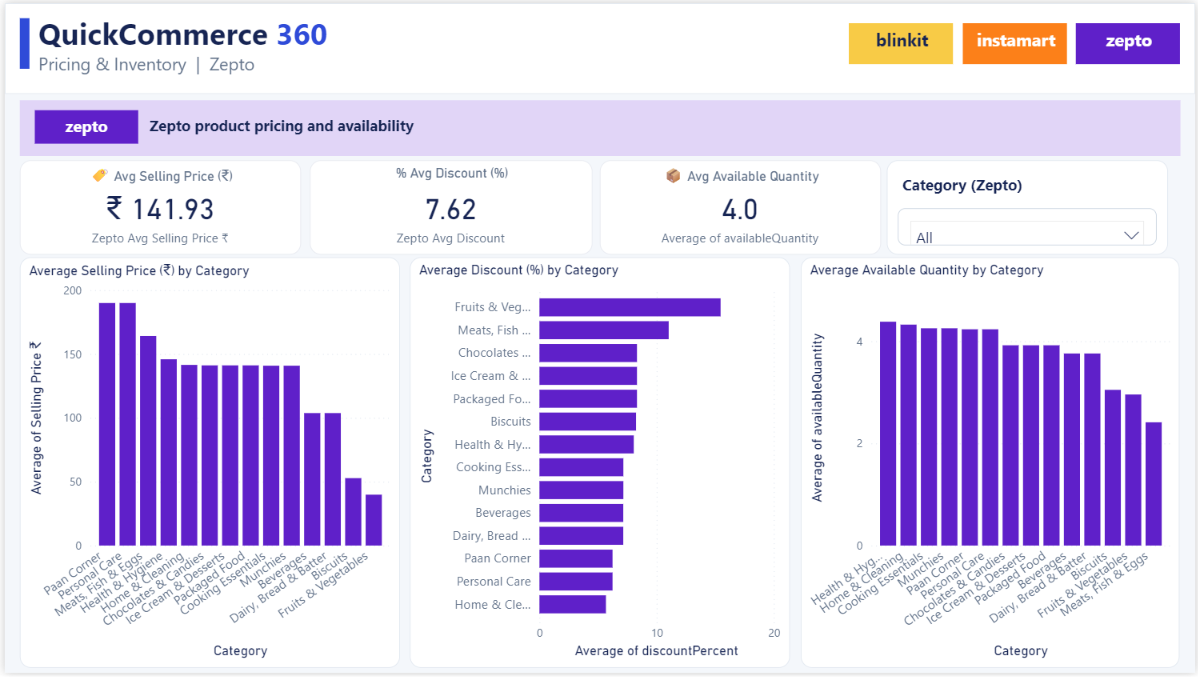

The page's visual inventory and layout, read from the dashboard file:
{"tool":"powerbi","page":{"name":"Pricing & Inventory","canvas":[1280,720],"ordinal":1},"visuals":[{"type":"textbox","box":[0,0,1280,97.5],"z":1000},{"type":"textbox","box":[16,16,6,54],"z":2000},{"type":"textbox","box":[31.4,5.7,640,91.4],"z":3000},{"type":"textbox","box":[908,21,112,44],"z":4000},{"type":"textbox","box":[1030,21,112,44],"z":5000},{"type":"textbox","box":[1152,21,112,44],"z":6000},{"type":"textbox","box":[16.2,103.8,1247.7,60],"z":7000},{"type":"textbox","box":[32.3,114.6,111.5,36.2],"z":8000},{"type":"textbox","box":[150,114.6,700,39.2],"z":9000},{"type":"card","title":"🏷️  Avg Selling Price (₹)","fields":{"Values":["zepto.Zepto Avg Selling Price ₹"]},"box":[16.2,168.8,302.5,101.2],"z":10000},{"type":"card","title":"%  Avg Discount (%)","fields":{"Values":["zepto.Zepto Avg Discount"]},"box":[327.5,168.8,303.8,101.2],"z":11000},{"type":"card","title":"📦  Avg Available Quantity","fields":{"Values":["Avg(zepto.availableQuantity)"]},"box":[640,168.8,302.5,101.2],"z":12000},{"type":"textbox","box":[948.8,168.8,302.5,101.2],"z":13000},{"type":"textbox","box":[960,178.8,278.8,32.5],"z":14000},{"type":"slicer","fields":{"Values":["zepto.Category"]},"box":[960,220,278.8,40],"z":15000},{"type":"clusteredColumnChart","title":"Average Selling Price (₹) by Category","fields":{"Category":["zepto.Category"],"Y":["Avg(zepto.Selling Price ₹)"]},"box":[15.6,273.1,408.8,441.2],"z":16000},{"type":"clusteredBarChart","title":"Average Discount (%) by Category","fields":{"Category":["zepto.Category"],"Y":["Avg(zepto.discountPercent)"]},"box":[435.6,273.1,408.8,441.2],"z":17000},{"type":"clusteredColumnChart","title":"Average Available Quantity by Category","fields":{"Category":["zepto.Category"],"Y":["Avg(zepto.availableQuantity)"]},"box":[856.2,273.1,407.5,441.2],"z":18000}]}

Visuals, with their boxes in screenshot pixels (x1, y1, x2, y2), scaled from the page's 1280x720 canvas onto the 1198x677 screenshot:
textbox: x1=0 y1=0 x2=1197 y2=92
textbox: x1=15 y1=15 x2=21 y2=66
textbox: x1=29 y1=5 x2=628 y2=91
textbox: x1=850 y1=20 x2=955 y2=61
textbox: x1=964 y1=20 x2=1069 y2=61
textbox: x1=1078 y1=20 x2=1183 y2=61
textbox: x1=15 y1=98 x2=1183 y2=154
textbox: x1=30 y1=108 x2=135 y2=142
textbox: x1=140 y1=108 x2=796 y2=145
"🏷️  Avg Selling Price (₹)" card: x1=15 y1=159 x2=298 y2=254
"%  Avg Discount (%)" card: x1=307 y1=159 x2=591 y2=254
"📦  Avg Available Quantity" card: x1=599 y1=159 x2=882 y2=254
textbox: x1=888 y1=159 x2=1171 y2=254
textbox: x1=898 y1=168 x2=1159 y2=199
slicer - zepto.Category: x1=898 y1=207 x2=1159 y2=244
"Average Selling Price (₹) by Category" clusteredColumnChart: x1=15 y1=257 x2=397 y2=672
"Average Discount (%) by Category" clusteredBarChart: x1=408 y1=257 x2=790 y2=672
"Average Available Quantity by Category" clusteredColumnChart: x1=801 y1=257 x2=1183 y2=672
